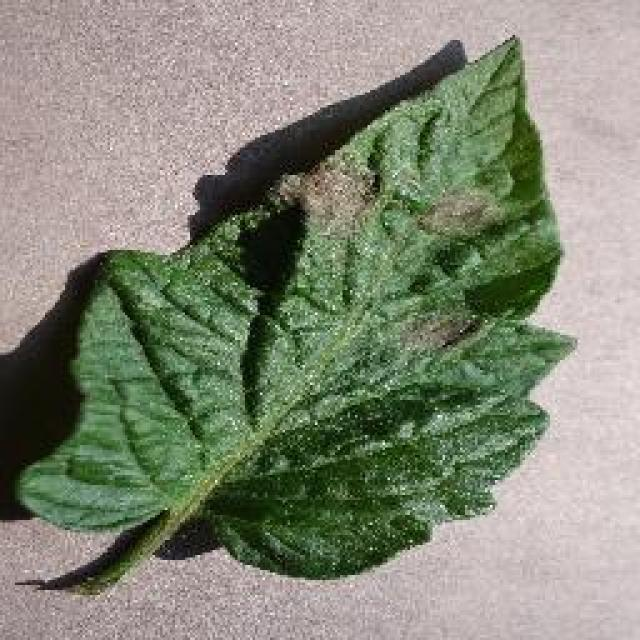Tomato late blight leaf: (14, 30, 578, 582)
